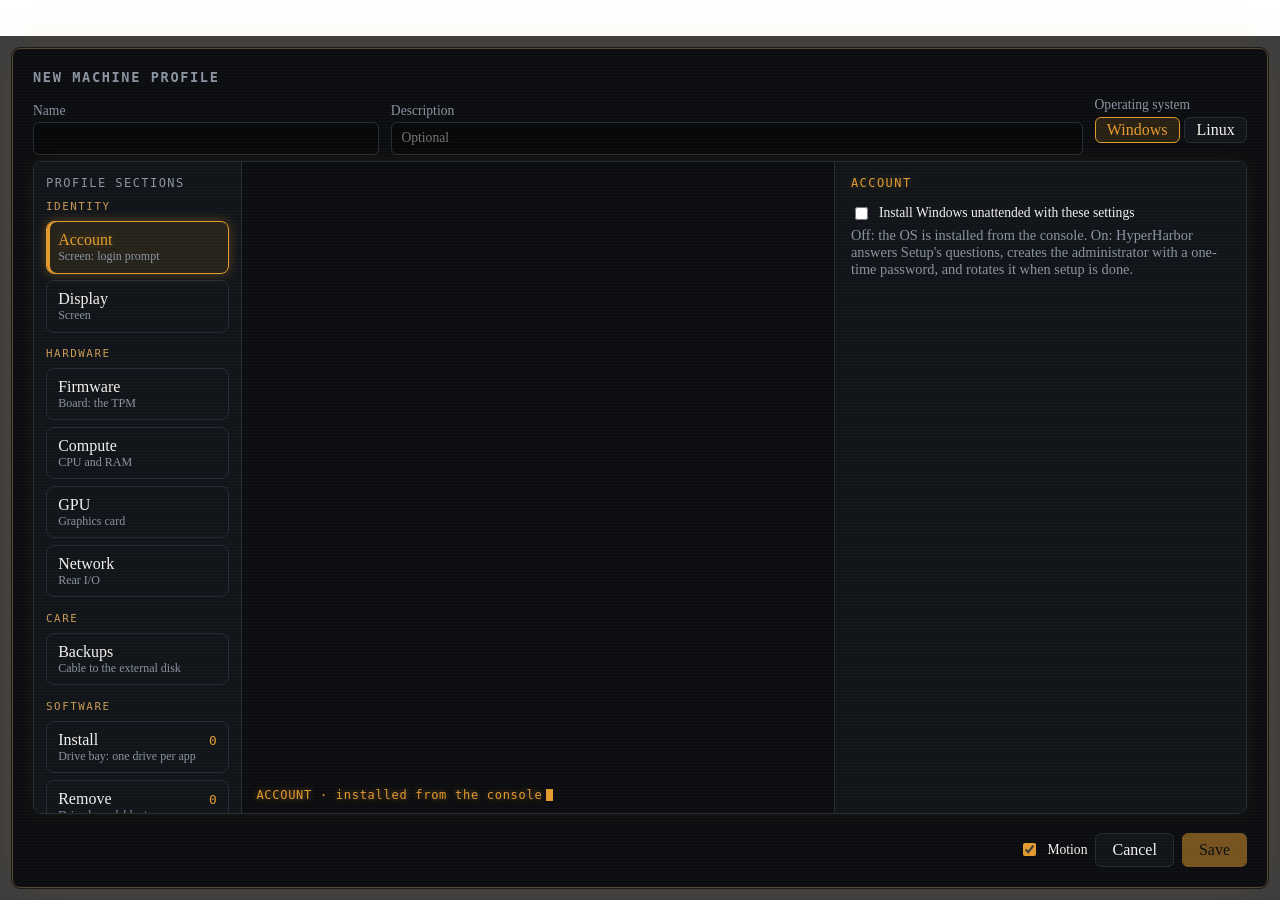
Test: MachineProfileEditor › fills the software sections from a setup profile
Click the tab "Install 0 Drive bay: one drive per app" at (138, 747), box left=46, top=721, right=229, bottom=773
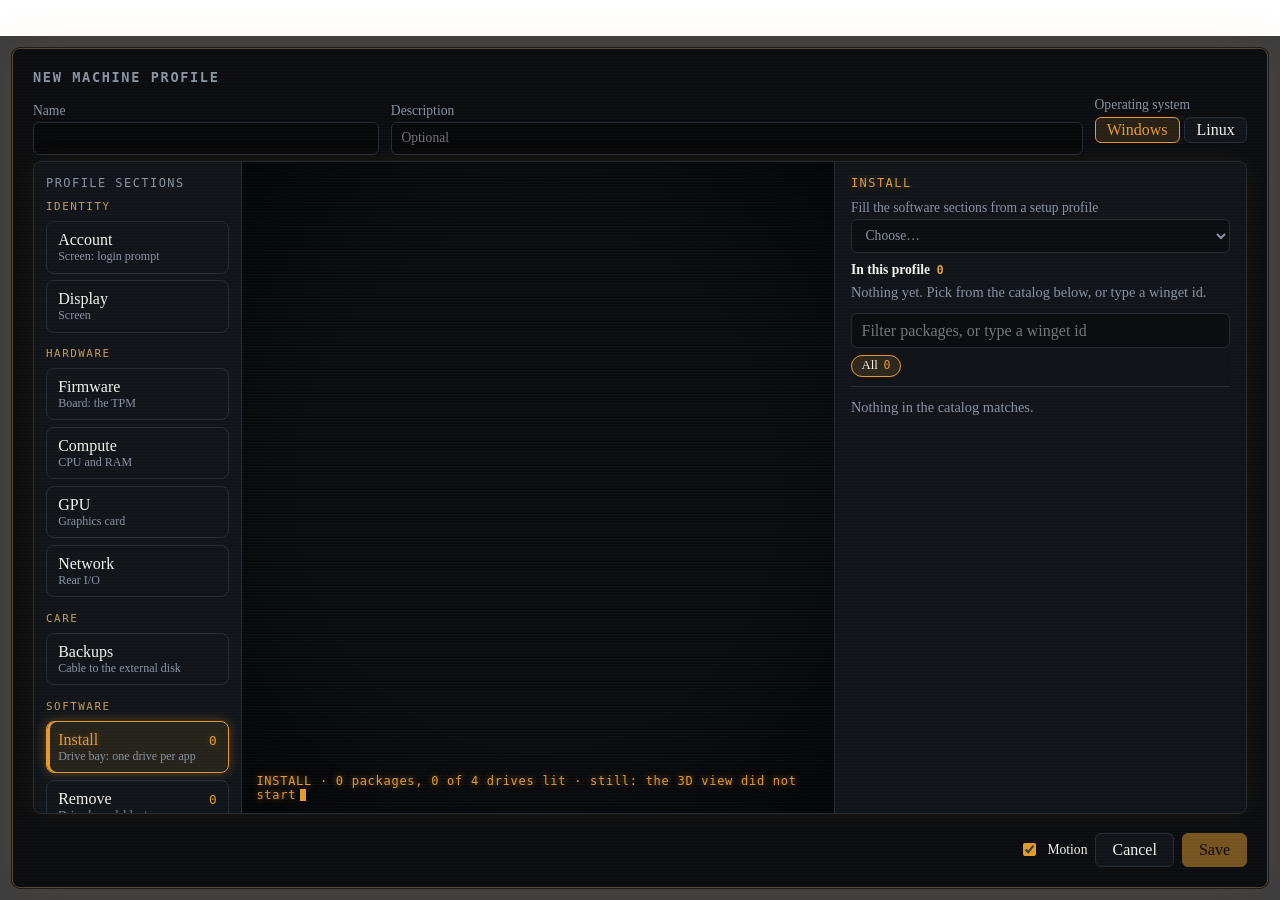
Select "Dev tools" in the dropdown labelled "Fill the software sections from a setup profile" at (1040, 236), box left=851, top=219, right=1230, bottom=252
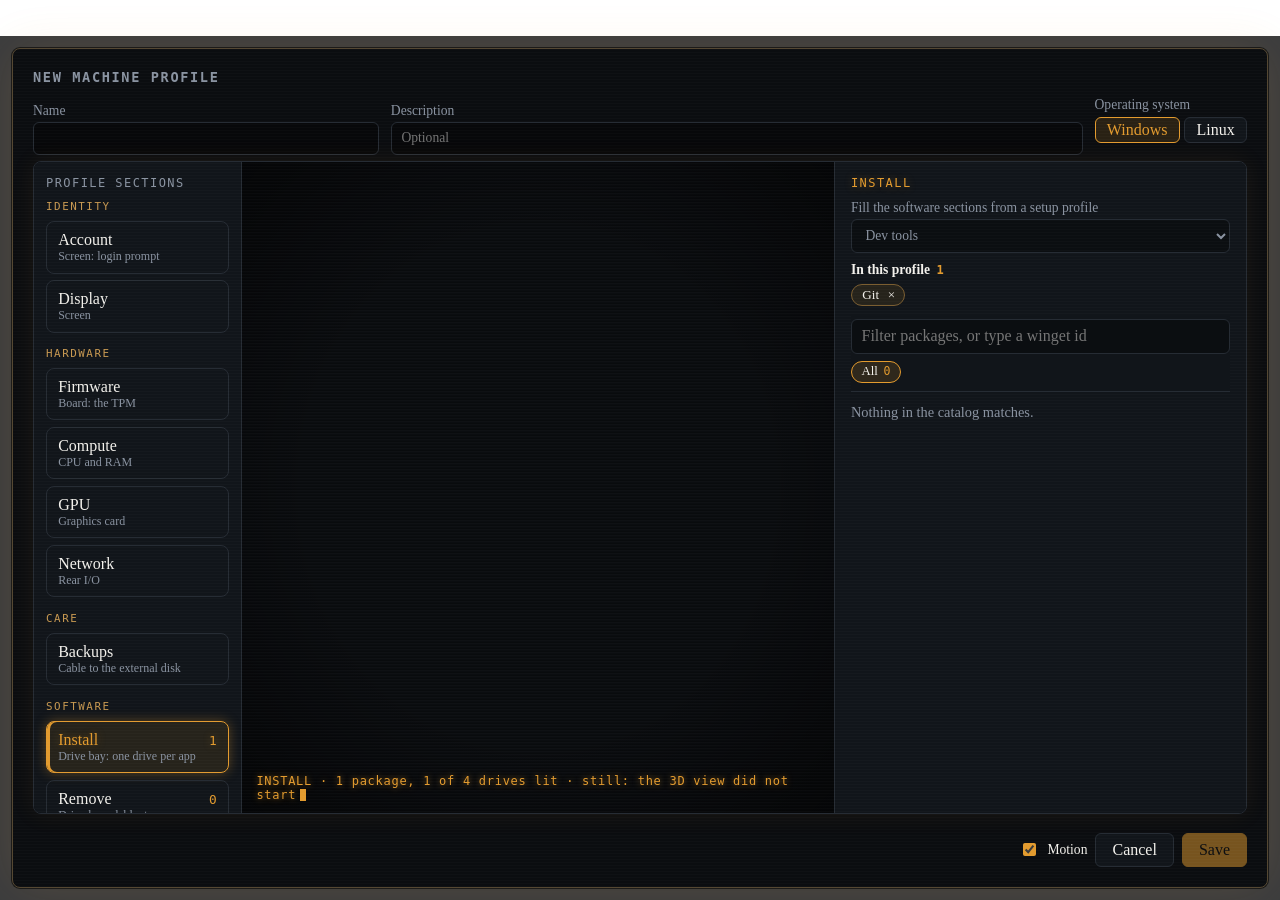
Result: the tab "Install 1 Drive bay: one drive per app" is shown at left=46, top=721, right=229, bottom=773
